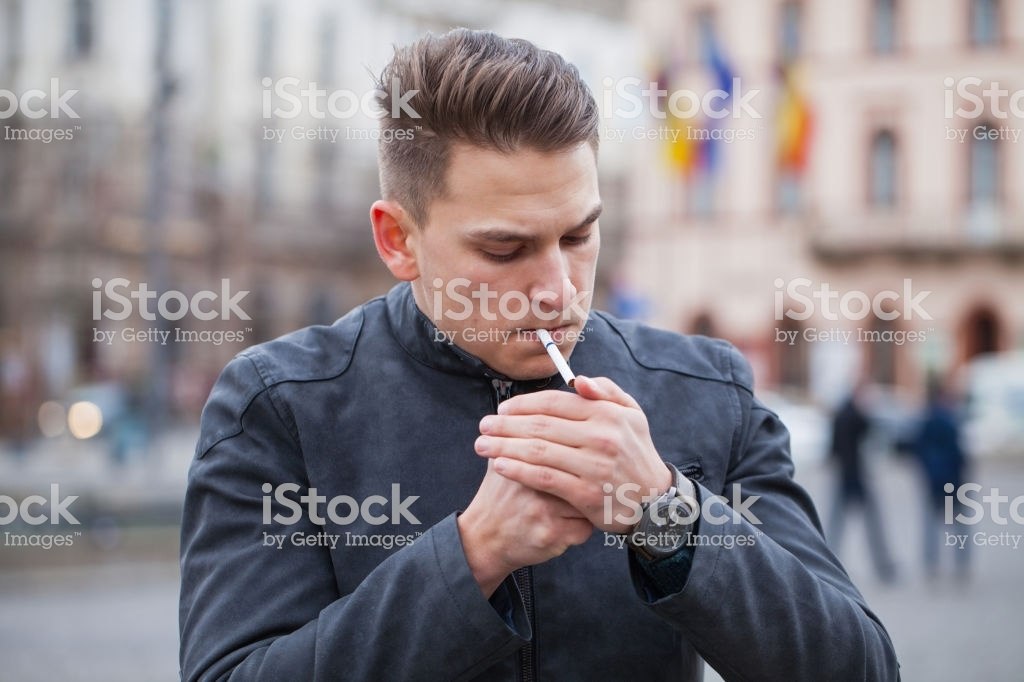sigaretta: (540, 319, 584, 395)
